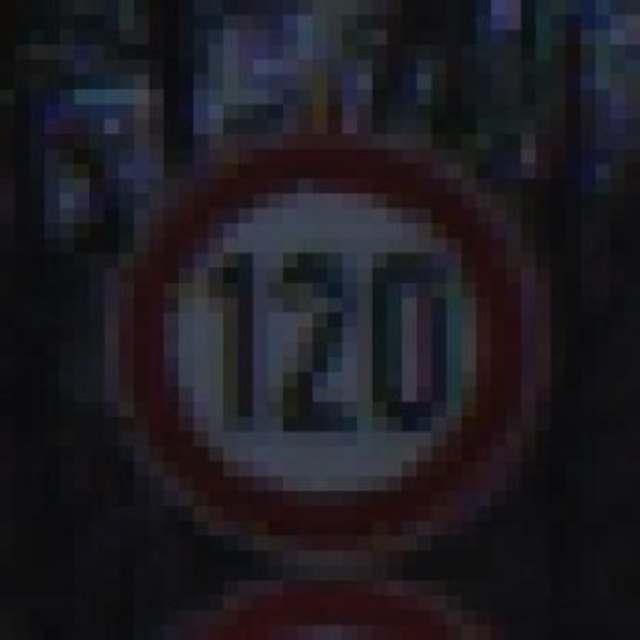Tốc độ tối đa cho phép 120km/h: (122, 140, 535, 558)
